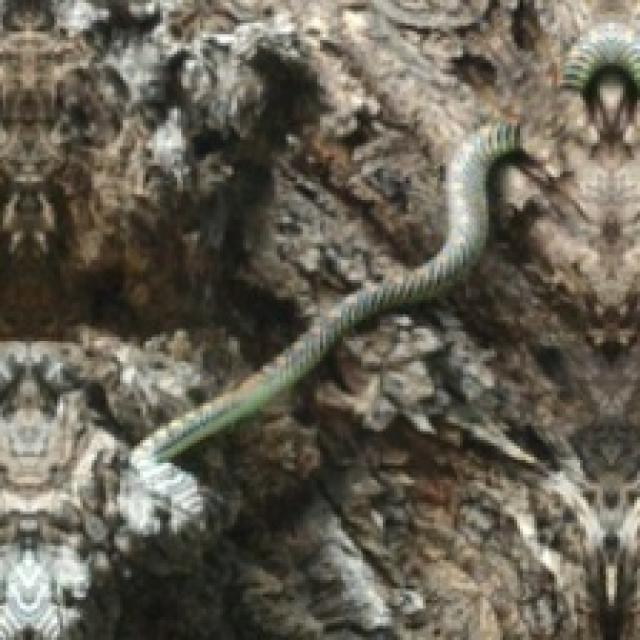paradise tree snake: (117, 123, 517, 534), (131, 123, 517, 466)
